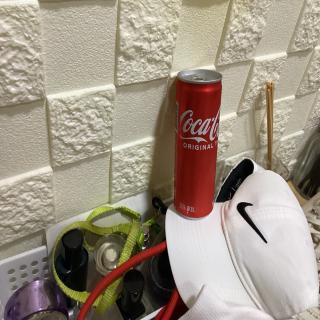cocacola: (167, 60, 228, 218)
